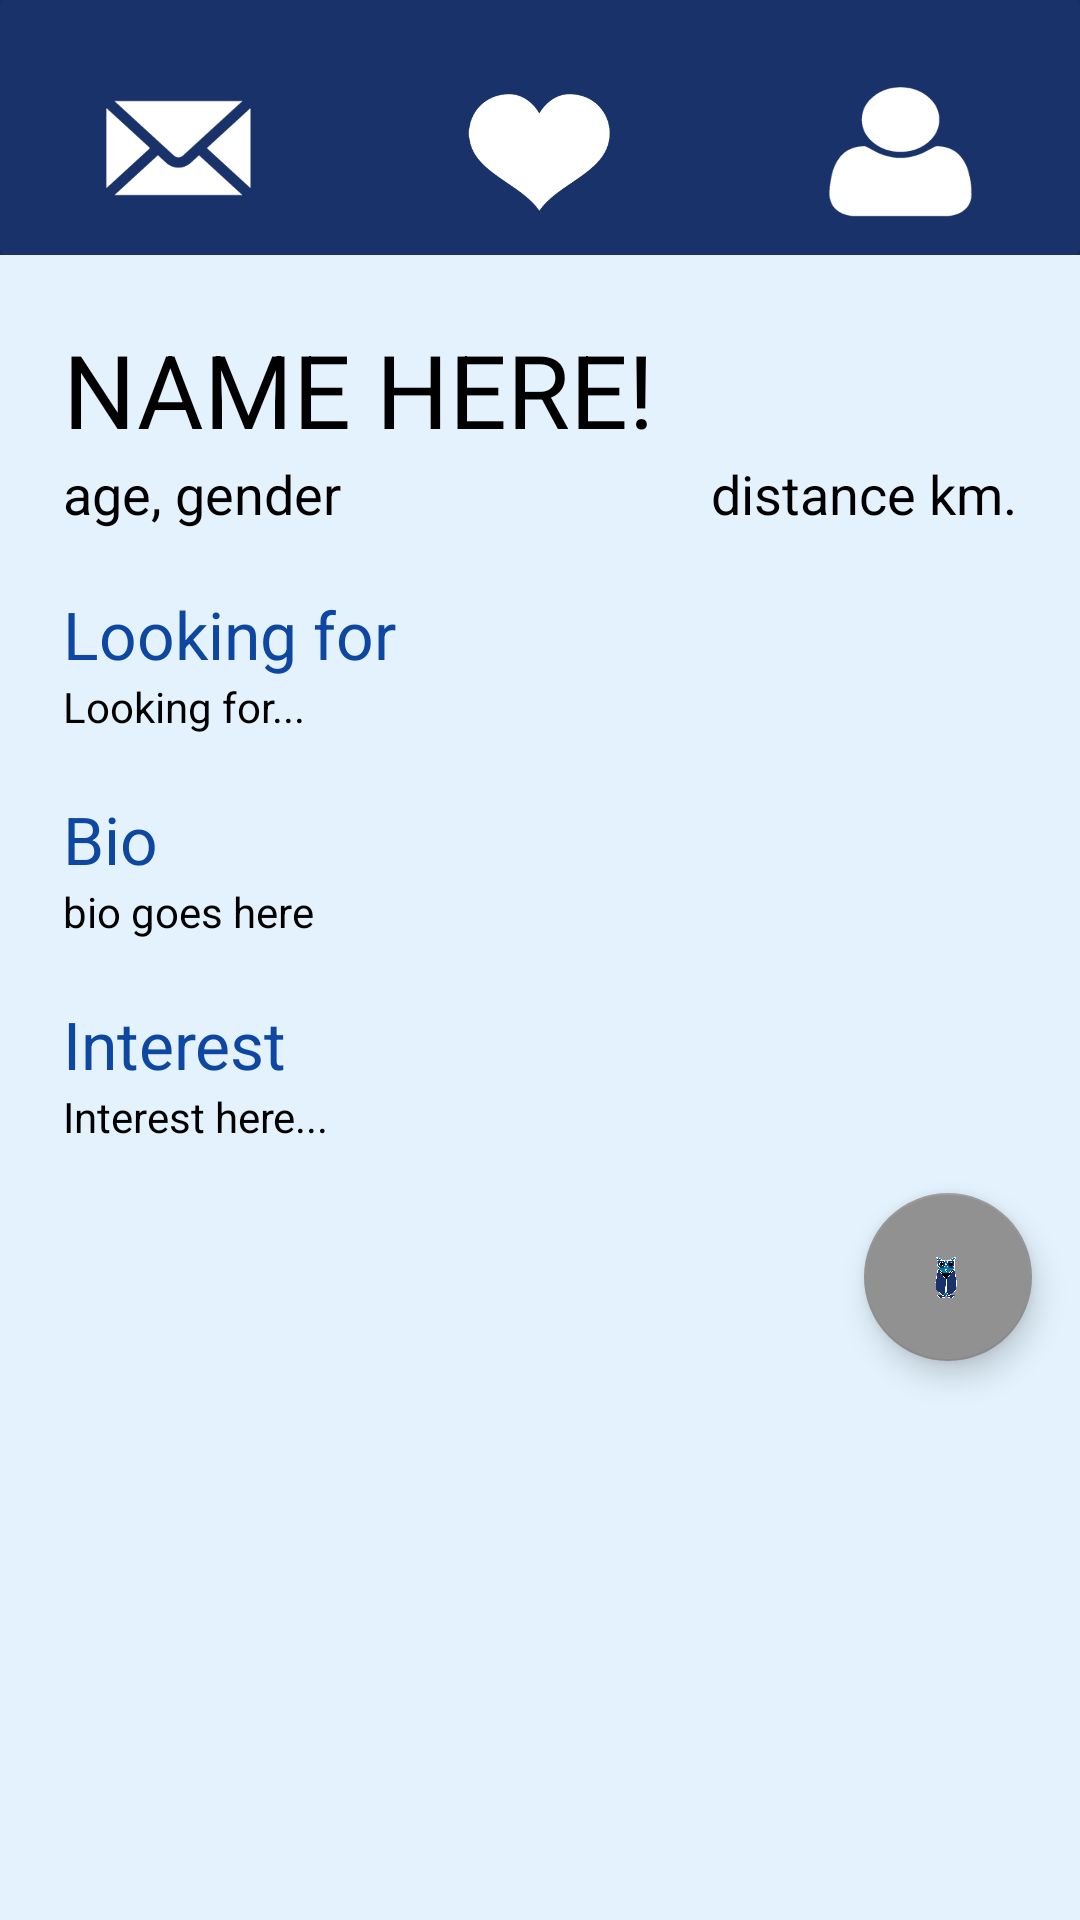

Where to tap for icons on this 1080×1920 app screen, as (x=x, y=y):
heart: (x=539, y=152)
mail: (x=178, y=148)
usericon: (x=900, y=152)
